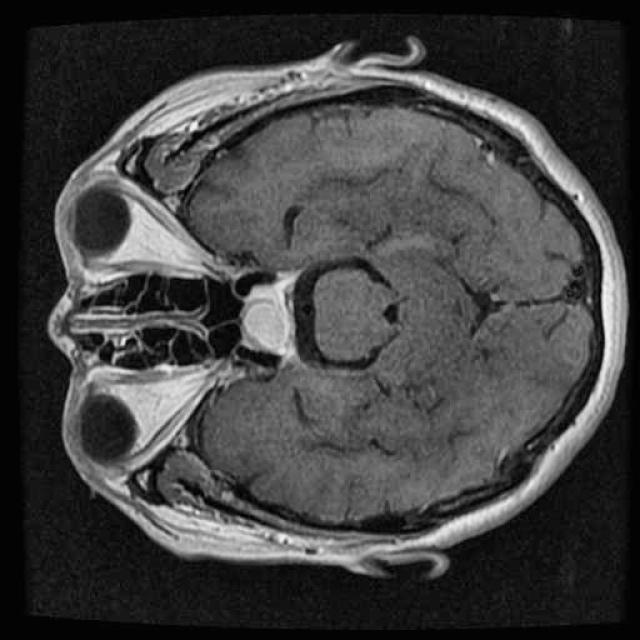Tumor: (234, 284, 311, 371)
